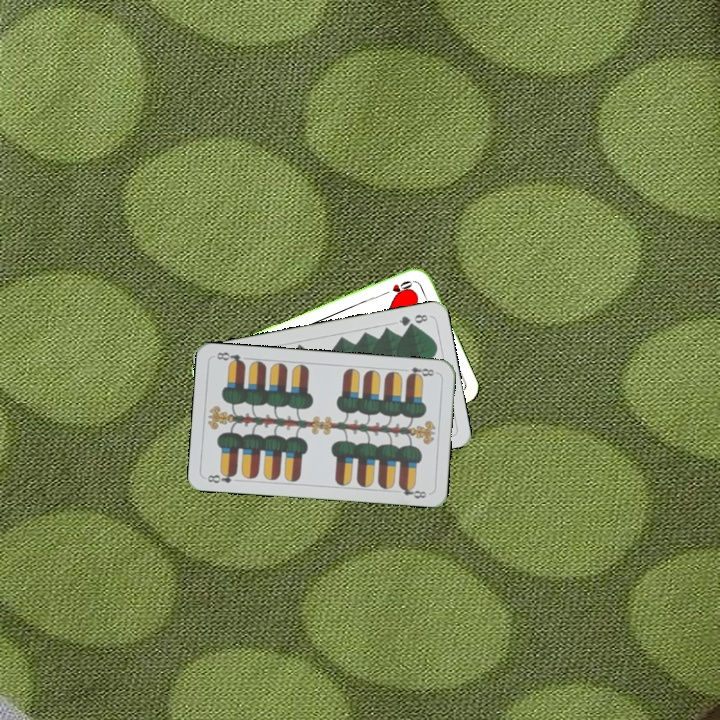E8: (399, 363, 439, 381), (203, 468, 239, 486)
G8: (395, 310, 430, 329)
HO: (378, 276, 417, 298)
